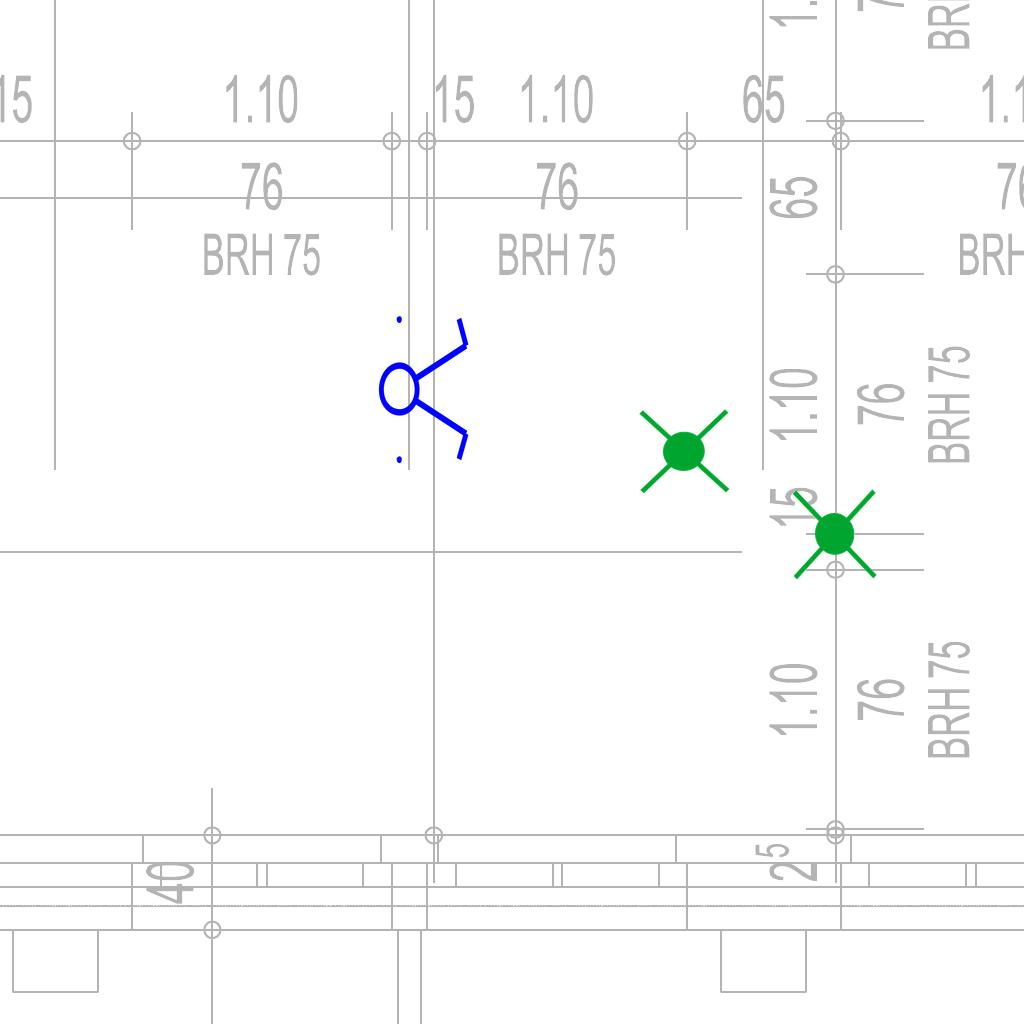Notlichtbaustein_in_Allgemeinbeleuchtug_engebaut_Einbau_(1UG_und_2UG_Aufbauvaria: (634, 401, 734, 504), (782, 484, 885, 584)
Serienschalter: (377, 304, 473, 472)
